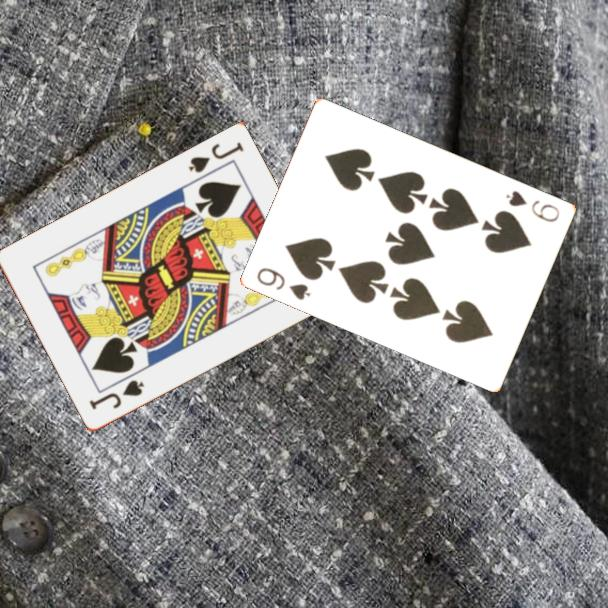s09: (254, 264, 314, 303), (503, 187, 563, 225)
s11: (85, 376, 147, 413), (185, 139, 247, 176)
